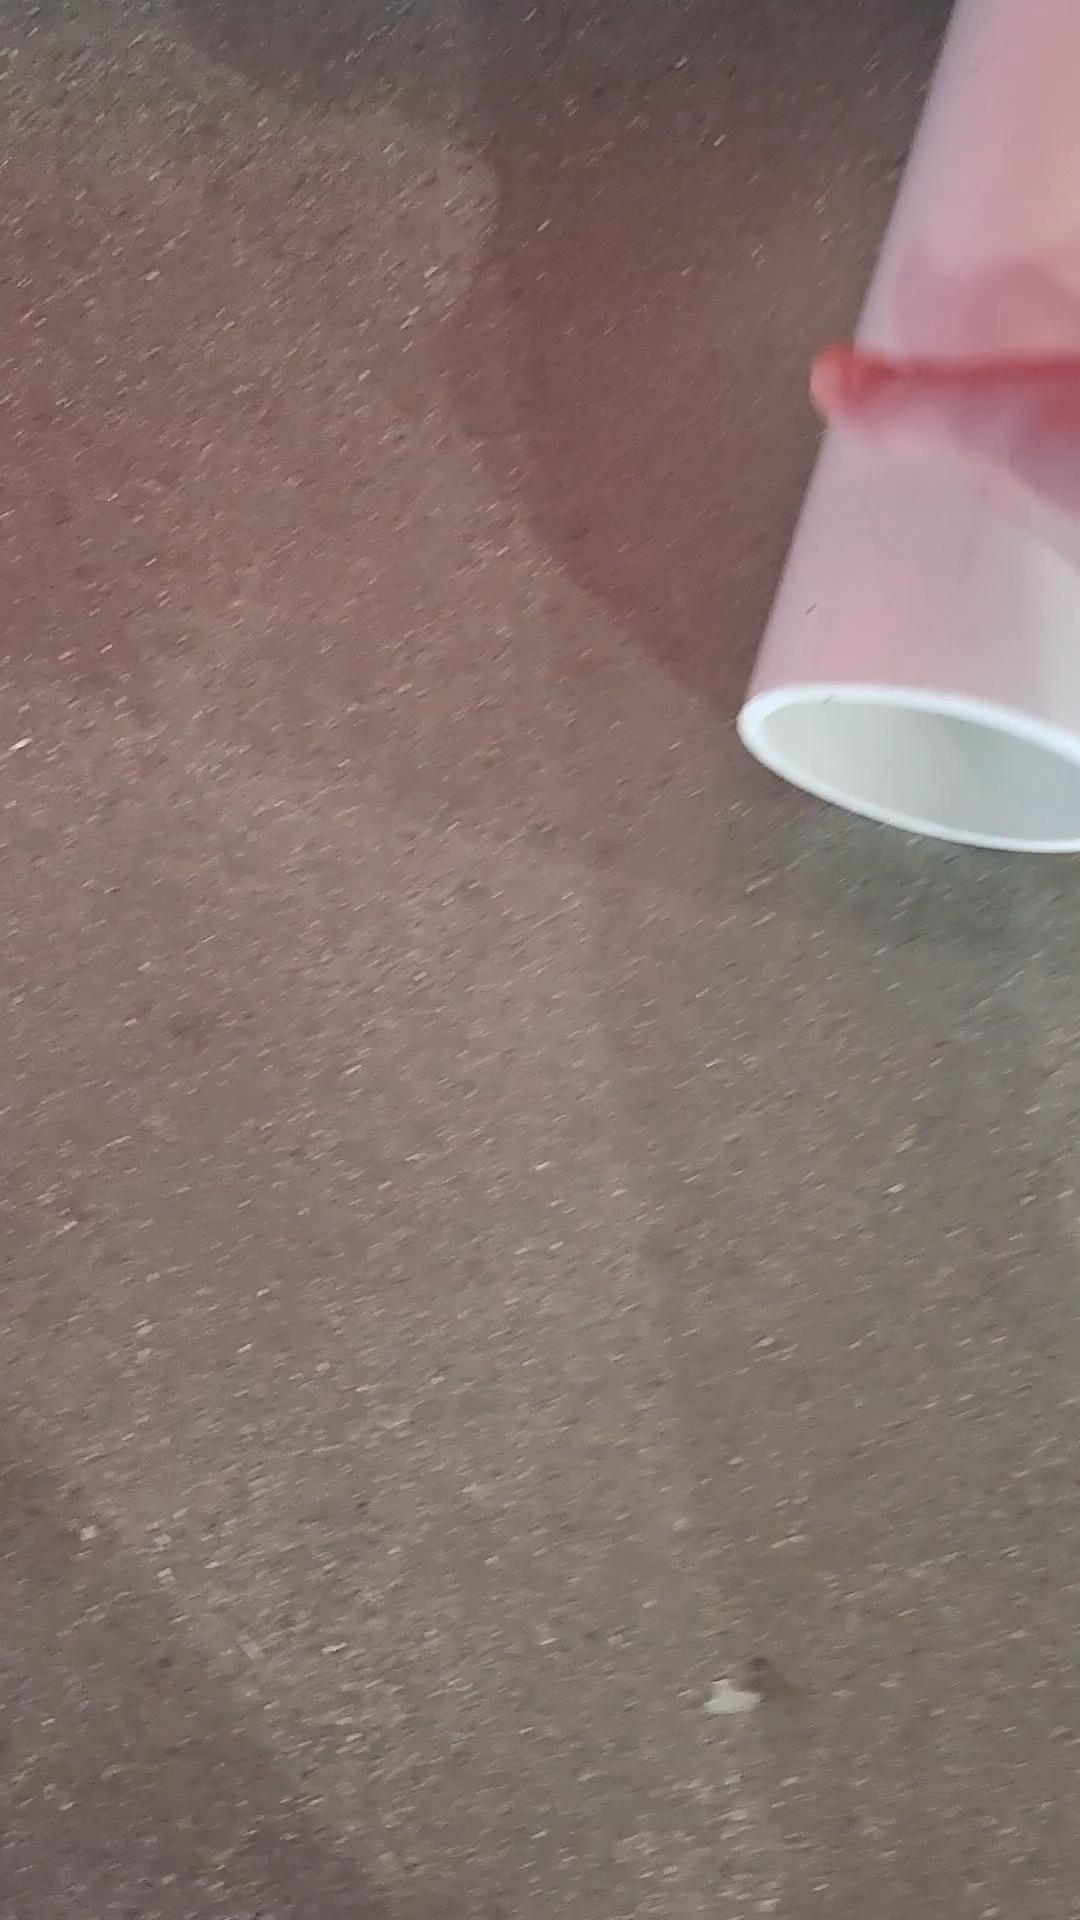coral: (702, 0, 1080, 893)
